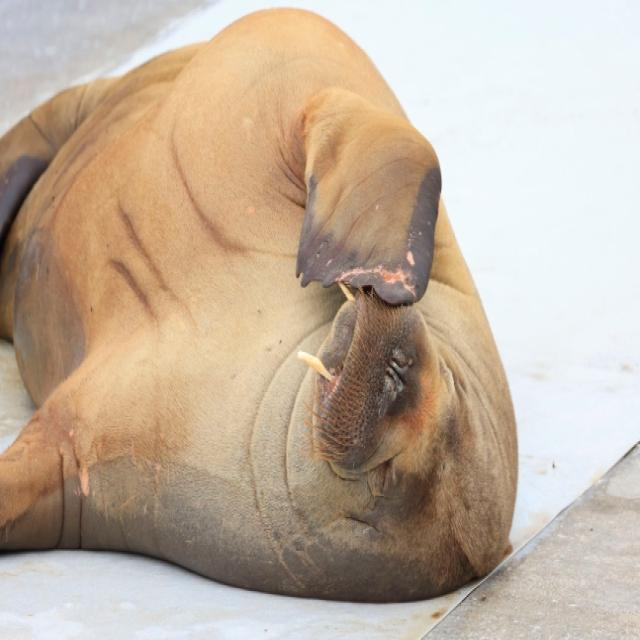walrus: (16, 28, 586, 605)
